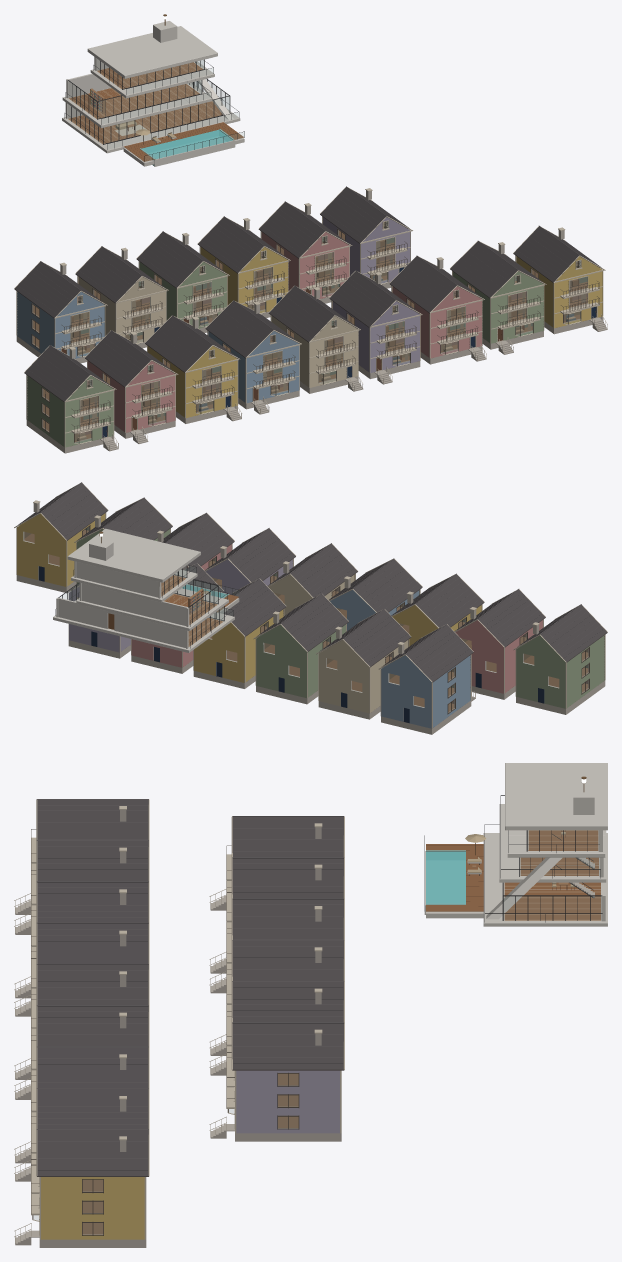
Rendered from home-architecture.glb.
3 views of the same model, one above another, from view 1: azimuth 30°, elevation 25°; view 2: azimuth 150°, elevation 25°; view 3: azimuth 270°, elevation 25° (orthographic). The views are drawn at different scales.
Visible parts, largest first — view 1: Summit_Structure, Summit_CraftAndInteriors, Rowhouse_01_Shell, Rowhouse_10_Shell, Summit_Glazing, Rowhouse_08_Shell, Rowhouse_07_Shell, Rowhouse_03_Shell, Rowhouse_04_Shell, Rowhouse_06_Shell, Rowhouse_02_Shell, Rowhouse_09_Shell (+7 smaller); view 2: Summit_Structure, Rowhouse_10_Shell, Rowhouse_01_Shell, Rowhouse_12_Shell, Rowhouse_11_Shell, Rowhouse_09_Shell, Rowhouse_02_Shell, Rowhouse_13_Shell, Rowhouse_04_Shell, Rowhouse_03_Shell, Rowhouse_06_Shell, Rowhouse_05_Shell (+6 smaller); view 3: Summit_Structure, Rowhouse_15_Shell, Rowhouse_09_Shell, Summit_CraftAndInteriors, Rowhouse_12_Shell, Rowhouse_11_Shell, Rowhouse_14_Shell, Rowhouse_03_Shell, Rowhouse_10_Shell, Rowhouse_04_Shell, Rowhouse_07_Shell, Rowhouse_05_Shell (+8 smaller).
Part boxes in pixels (bbox=[...]): Summit_Structure: bbox=[62, 21, 244, 166]; Summit_CraftAndInteriors: bbox=[64, 14, 244, 161]; Rowhouse_01_Shell: bbox=[24, 345, 118, 453]; Rowhouse_10_Shell: bbox=[14, 261, 107, 363]; Summit_Glazing: bbox=[68, 59, 244, 160]; Rowhouse_08_Shell: bbox=[450, 240, 546, 354]; Rowhouse_07_Shell: bbox=[389, 255, 486, 364]; Rowhouse_03_Shell: bbox=[145, 315, 241, 423]; Rowhouse_04_Shell: bbox=[205, 300, 301, 414]; Rowhouse_06_Shell: bbox=[329, 270, 422, 384]; Rowhouse_02_Shell: bbox=[84, 330, 178, 443]; Rowhouse_09_Shell: bbox=[513, 225, 607, 334]; Summit_Structure: bbox=[53, 528, 239, 652]; Rowhouse_10_Shell: bbox=[378, 624, 475, 734]; Rowhouse_01_Shell: bbox=[513, 604, 607, 714]; Rowhouse_12_Shell: bbox=[253, 593, 348, 704]; Rowhouse_11_Shell: bbox=[316, 608, 411, 719]; Rowhouse_09_Shell: bbox=[14, 482, 108, 592]; Rowhouse_02_Shell: bbox=[454, 589, 545, 699]; Rowhouse_13_Shell: bbox=[193, 578, 286, 688]; Rowhouse_04_Shell: bbox=[329, 558, 422, 630]; Rowhouse_03_Shell: bbox=[391, 573, 484, 646]; Rowhouse_06_Shell: bbox=[204, 528, 295, 594]; Rowhouse_05_Shell: bbox=[267, 543, 357, 615]; Summit_Structure: bbox=[424, 763, 607, 926]; Rowhouse_15_Shell: bbox=[209, 1022, 344, 1141]; Rowhouse_09_Shell: bbox=[14, 1129, 149, 1247]; Summit_CraftAndInteriors: bbox=[424, 776, 602, 922]; Rowhouse_12_Shell: bbox=[209, 898, 344, 993]; Rowhouse_11_Shell: bbox=[209, 857, 344, 973]; Rowhouse_14_Shell: bbox=[209, 981, 344, 1075]; Rowhouse_03_Shell: bbox=[14, 881, 149, 998]; Rowhouse_10_Shell: bbox=[209, 816, 344, 910]; Rowhouse_04_Shell: bbox=[14, 922, 149, 1016]; Rowhouse_07_Shell: bbox=[14, 1046, 149, 1163]; Rowhouse_05_Shell: bbox=[14, 964, 149, 1079].
Size of the model in its own units: 97.37 by 38.2 by 66.89.
